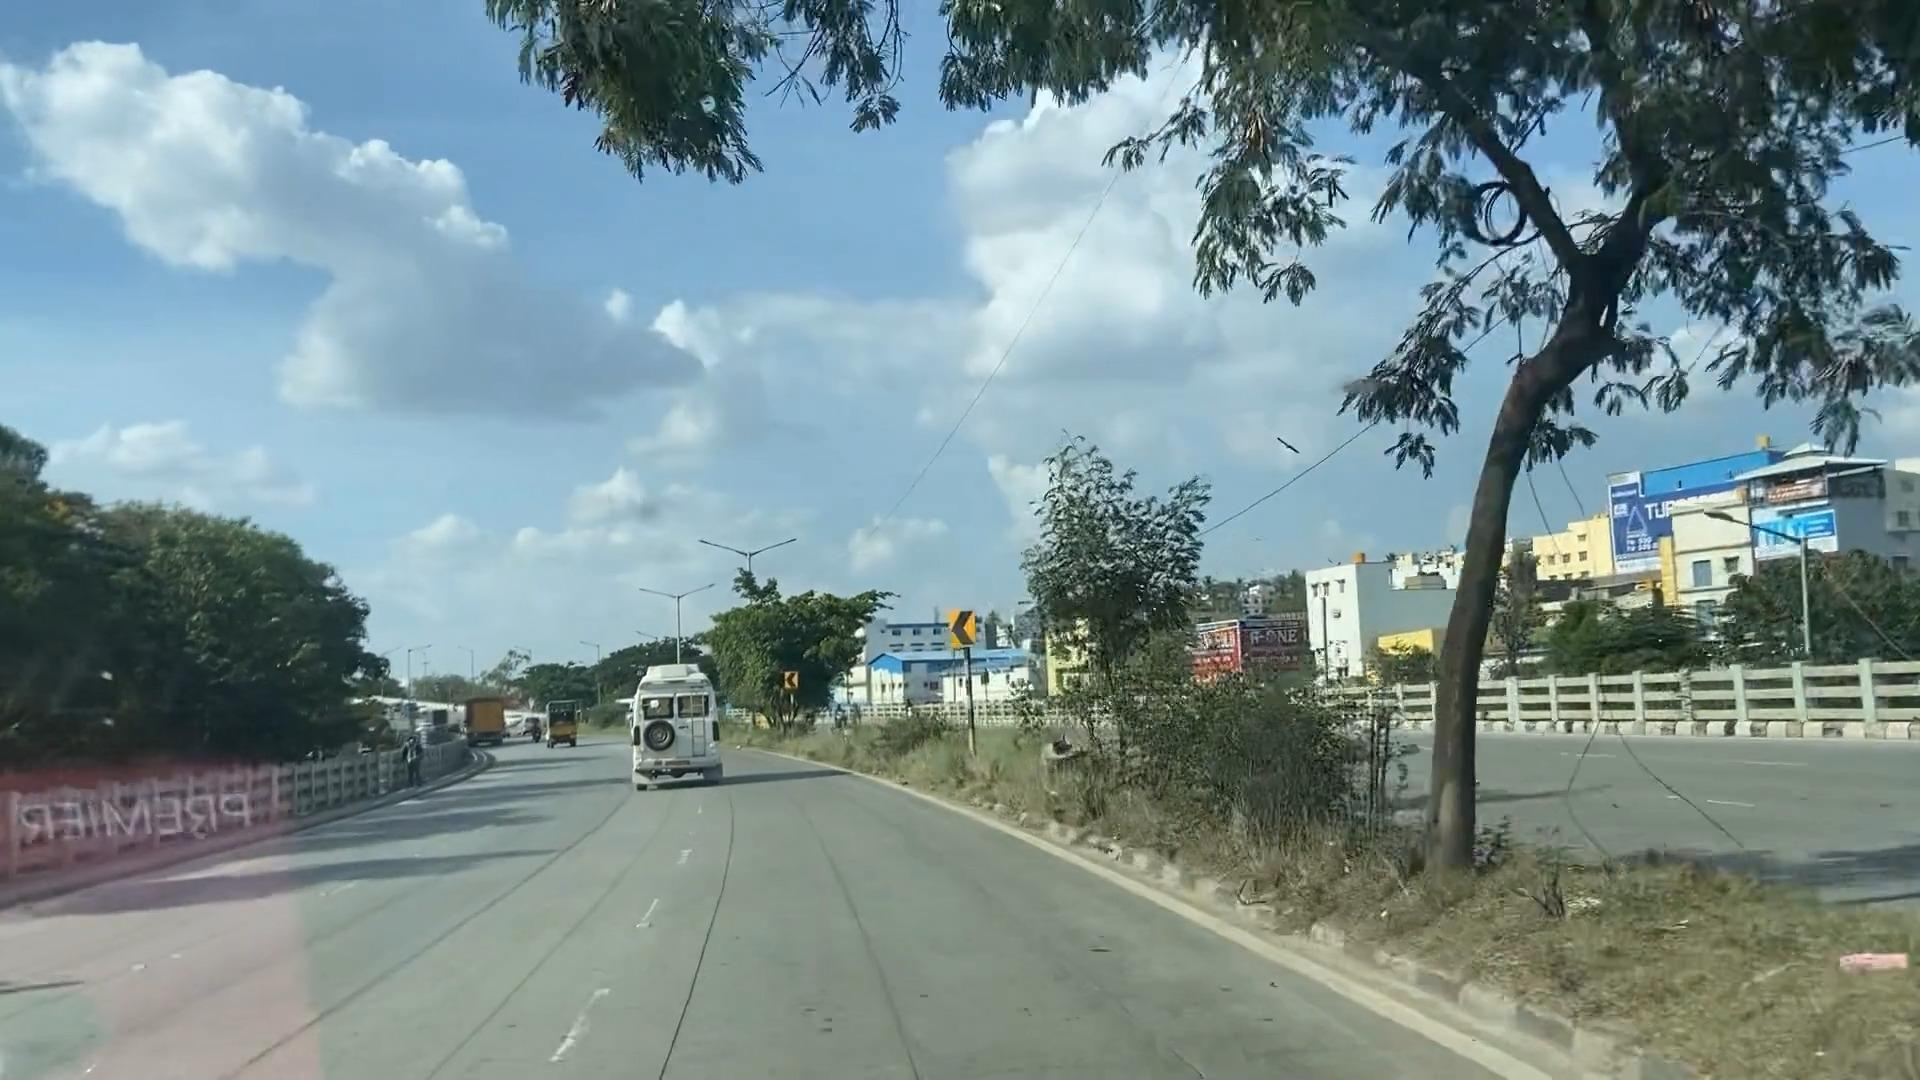HMV: (625, 653, 717, 786)
